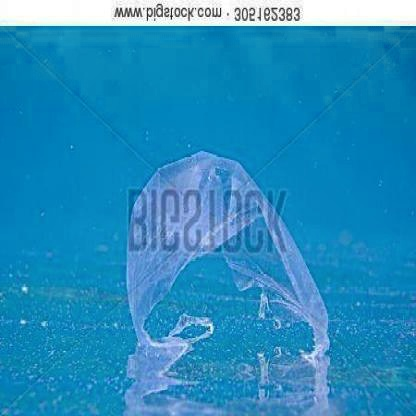pbag: (126, 151, 332, 352)
